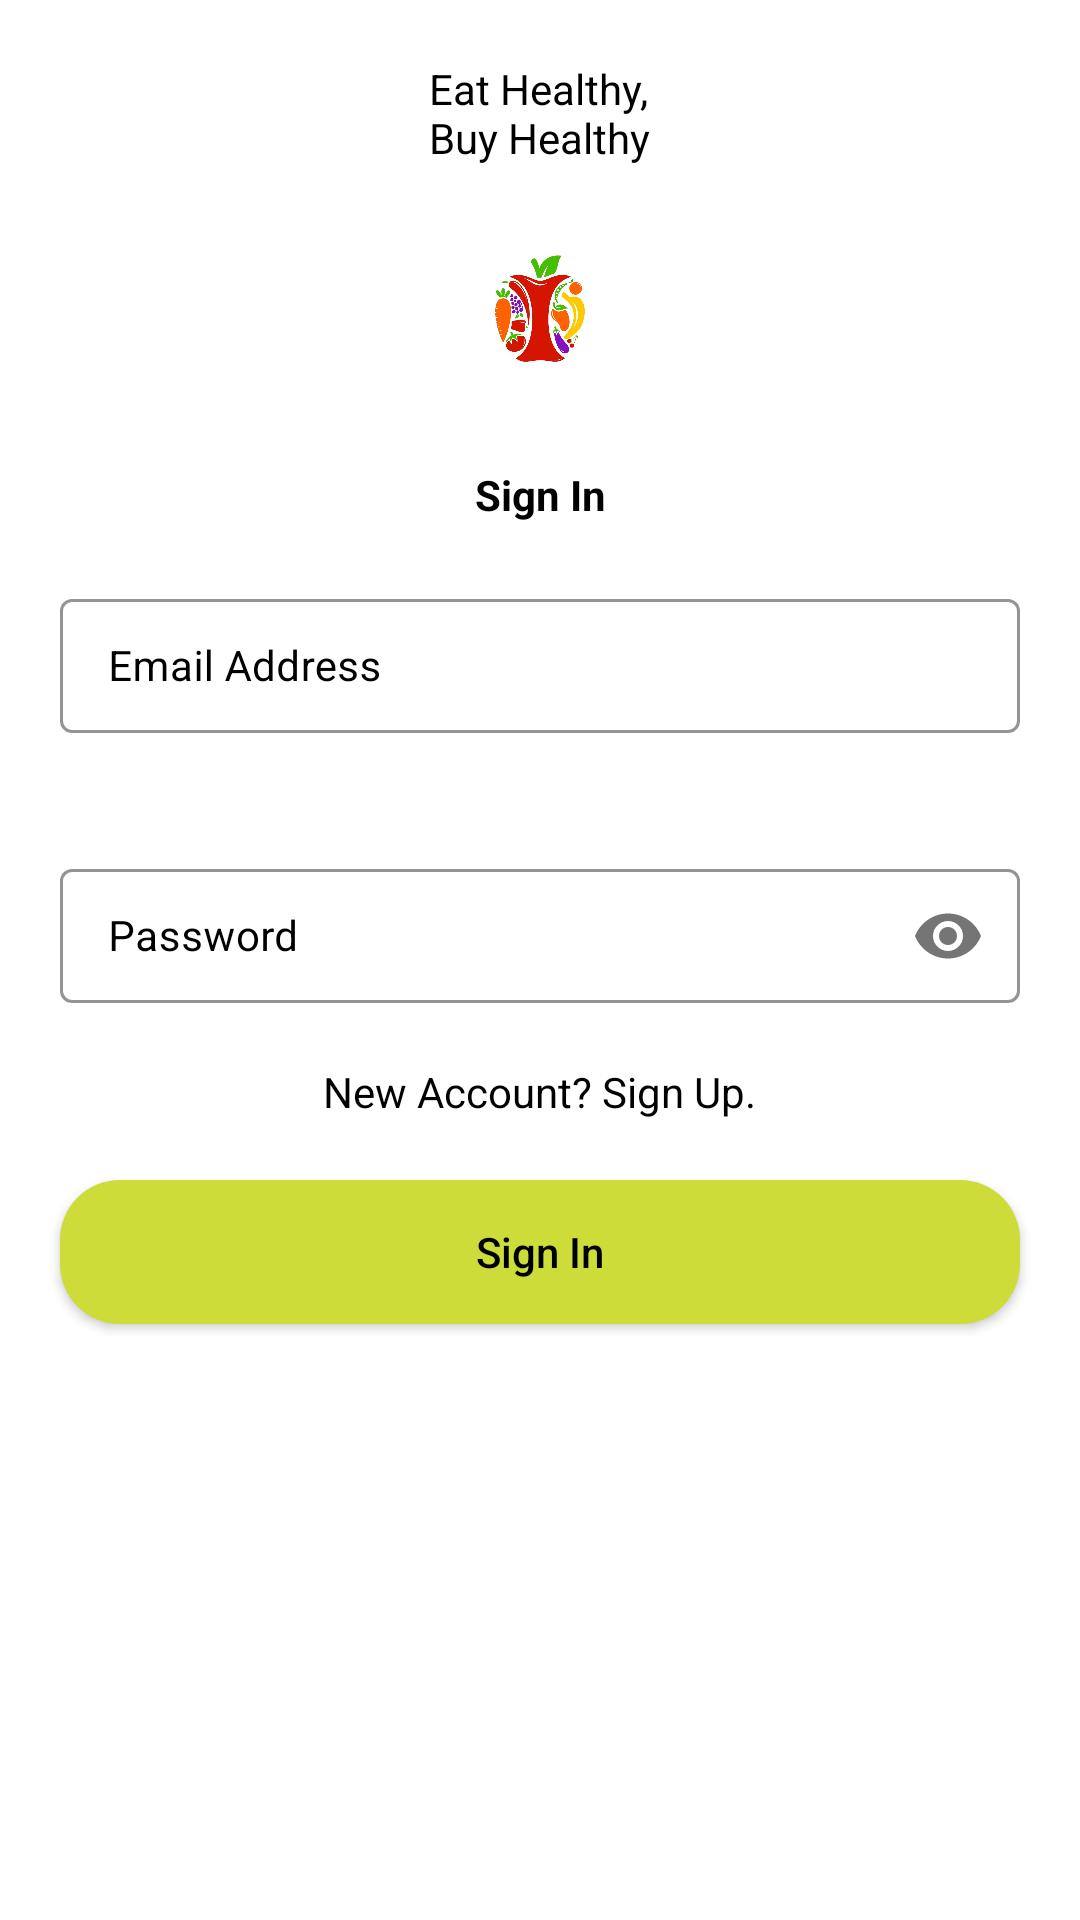

Icon click points for this 1080x1920 phone screenshot, format [x,y]:
vegfruit: [540,308]
